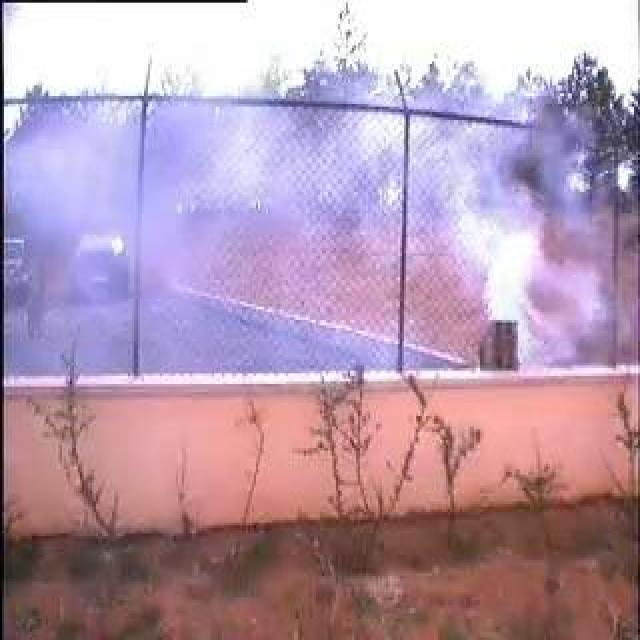Smoke: (26, 122, 554, 370)
